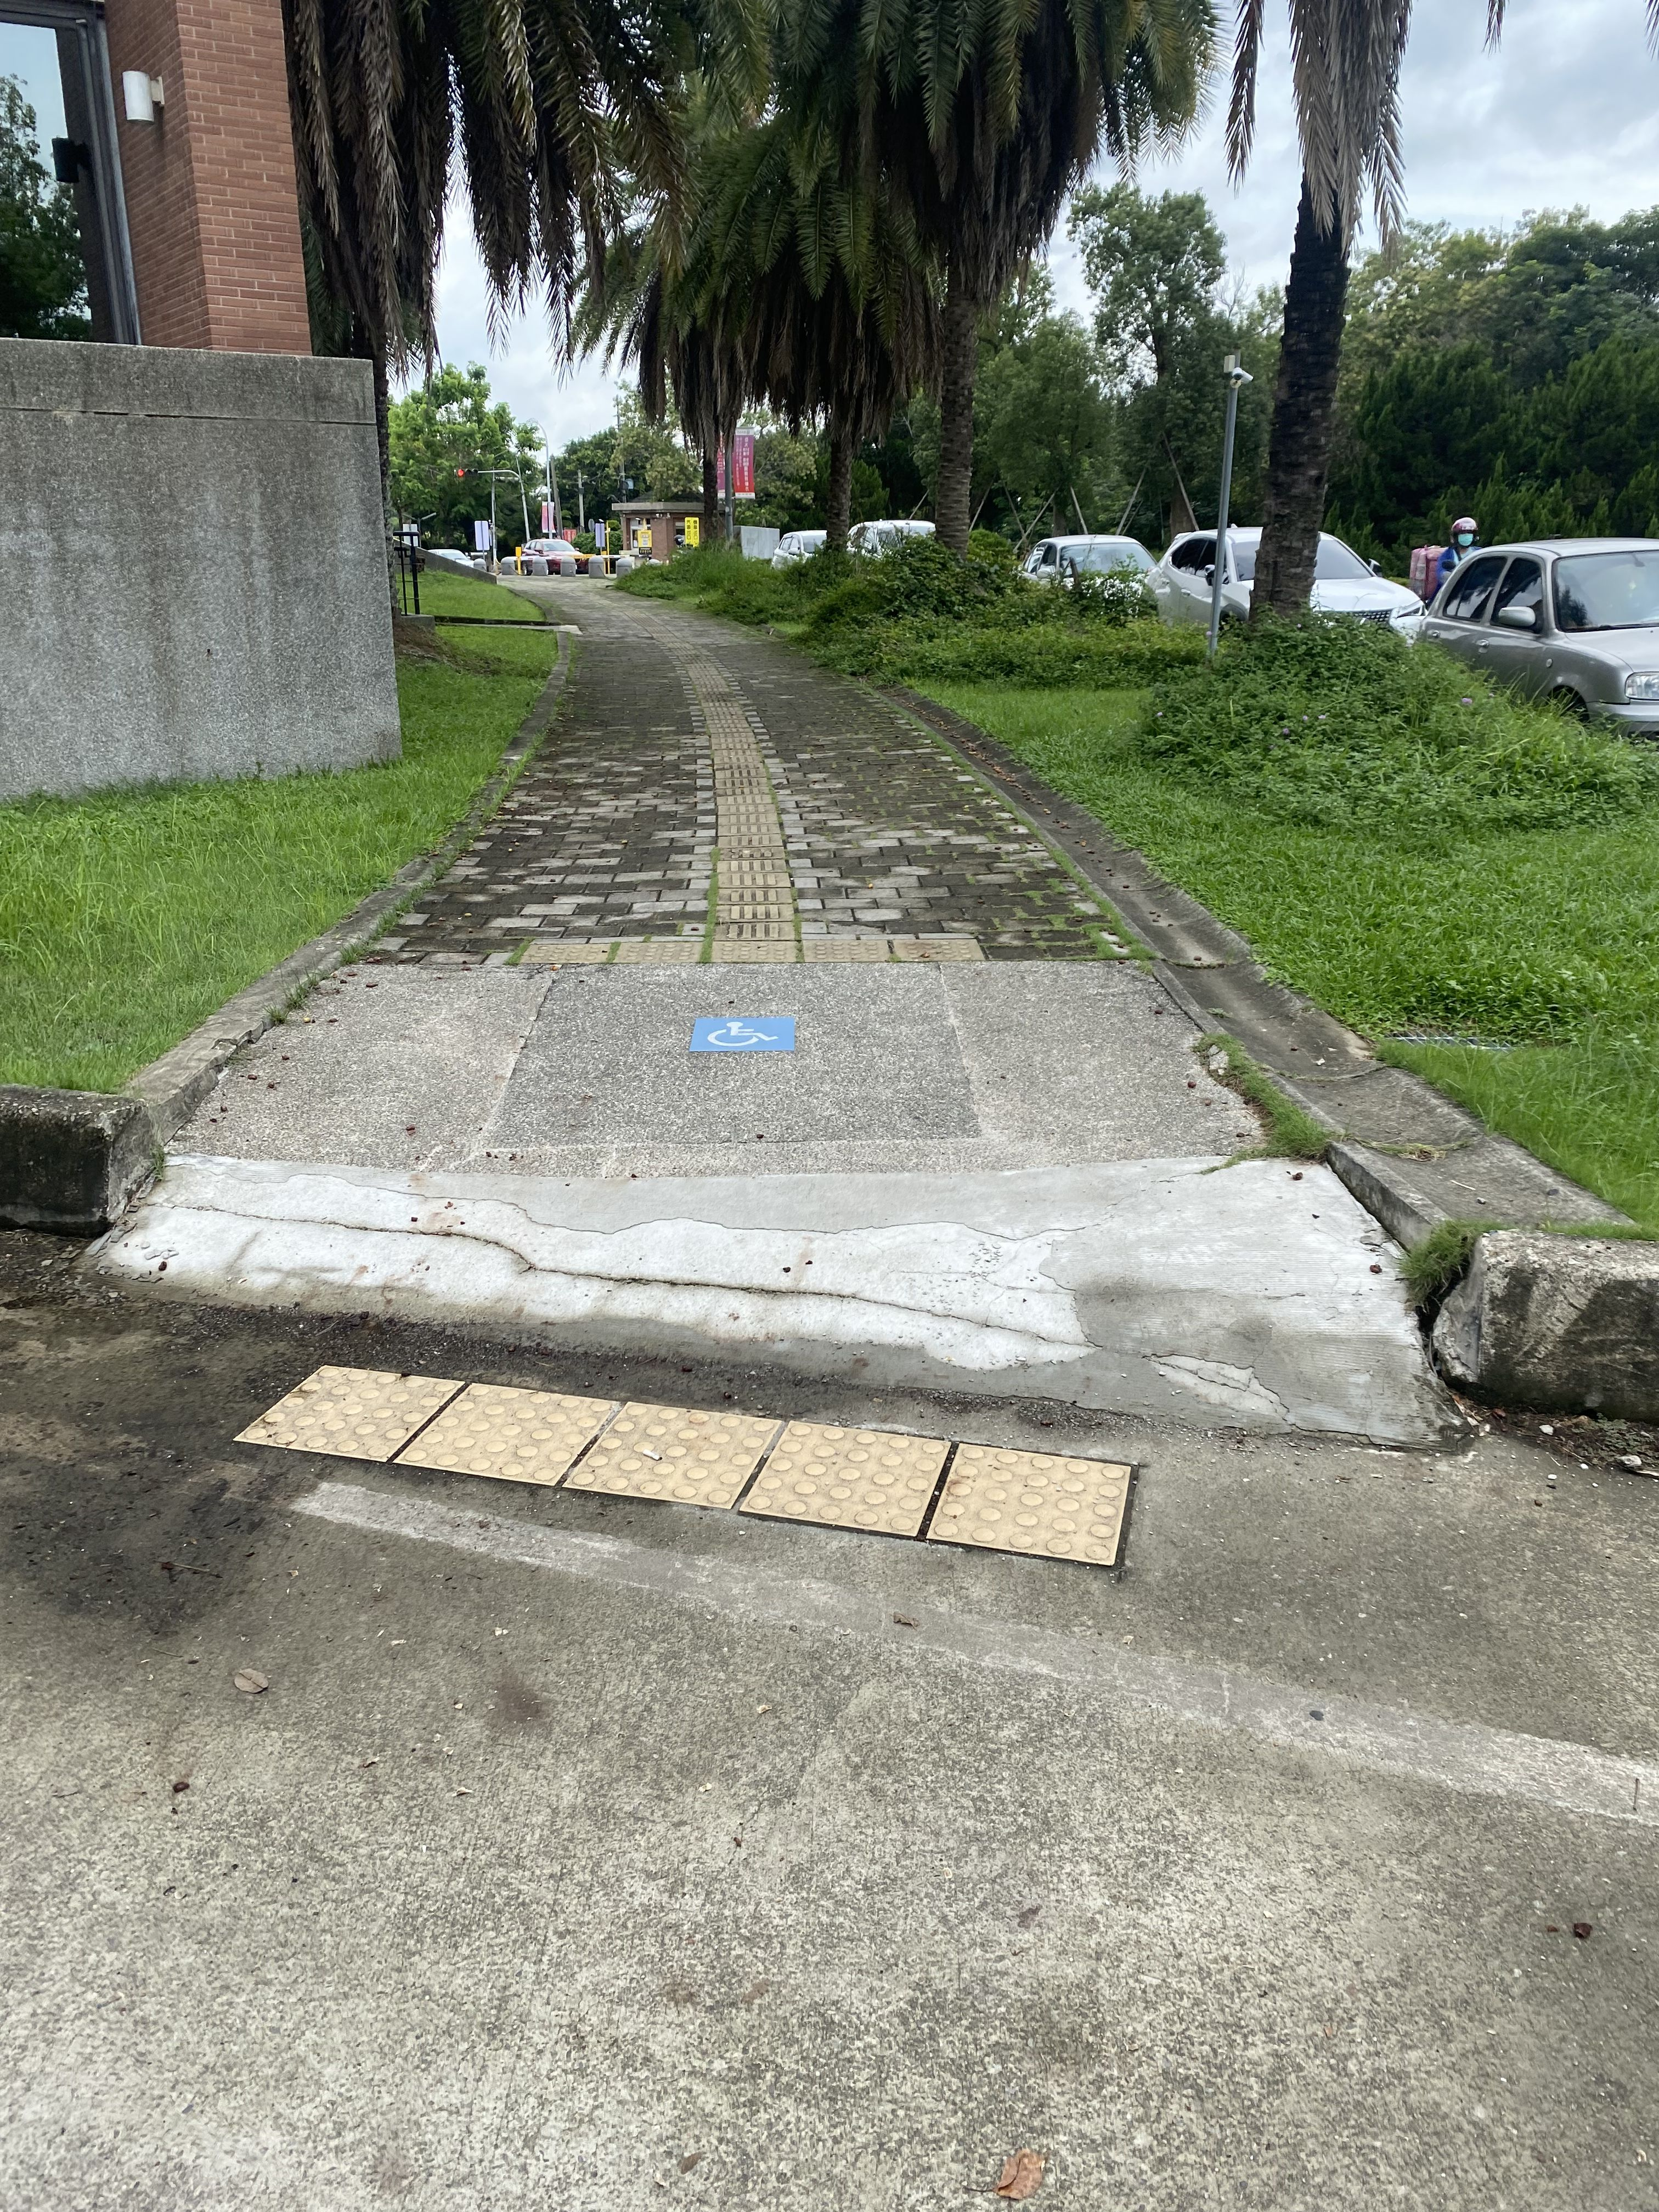sidewalk: (129, 552, 1534, 1658)
